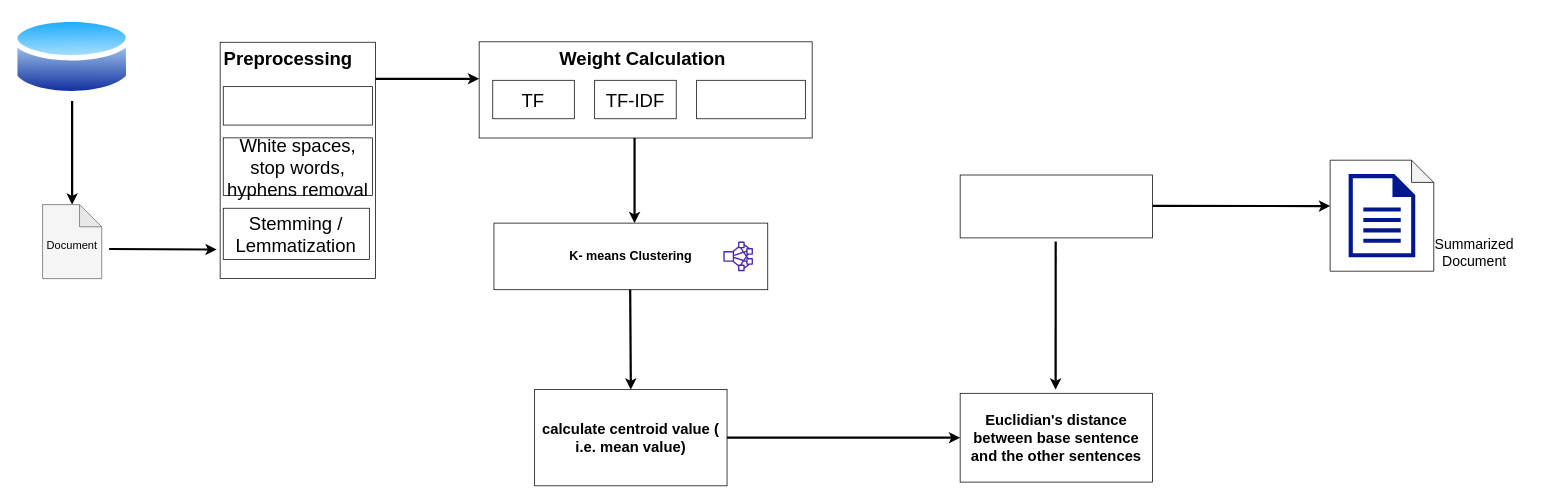
Image size: 1550x499. Some labels were removed from this diagram. The shapes that lost their labels are listed below. From the top down, each one's centre as x and y in pixels, then its label:
the point at 71,56: Database
the point at 297,105: Tokenization
the point at 750,99: BOOL (boolean weighting)
the point at 1056,206: Sentences near the centroid value should be selected
